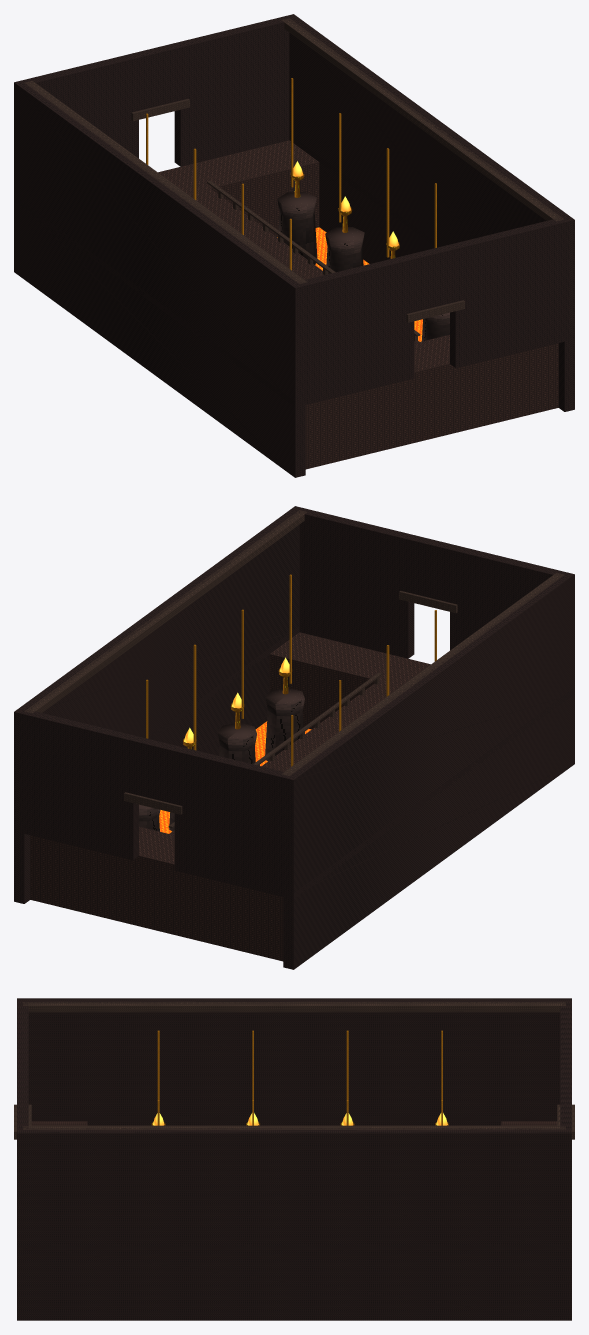
Rendered from f_schlucht.glb.
3 views of the same model, one above another, from view 1: azimuth 30°, elevation 25°; view 2: azimuth 150°, elevation 25°; view 3: azimuth 270°, elevation 25° (orthographic).
Parts seen in each view (by area): view 1: wallS-1, wallS1, chasmWall-1, ledgeA, wallF1, wallB1, wallF-1, ledgeB, chasmWall1, wallB-1, cornice1, bridge (+7 smaller); view 2: wallS-1, wallS1, chasmWall-1, ledgeB, wallB1, wallF1, wallB-1, ledgeA, chasmWall1, wallF-1, cornice1, bridge (+7 smaller); view 3: wallS1, wallS-1, chasmWall1, cornice-1, chasmWall-1, cornice1, wallB1, wallF1, wallF-1, wallB-1.
Boxes of the visible parts, x1=… form: wallS-1: x1=14, y1=80, x2=305, y2=406; wallS1: x1=283, y1=14, x2=574, y2=340; chasmWall-1: x1=14, y1=196, x2=305, y2=477; ledgeA: x1=305, y1=334, x2=558, y2=469; wallF1: x1=450, y1=218, x2=564, y2=367; wallB1: x1=174, y1=16, x2=289, y2=166; wallF-1: x1=301, y1=254, x2=414, y2=404; ledgeB: x1=158, y1=140, x2=319, y2=237; chasmWall1: x1=289, y1=135, x2=574, y2=411; wallB-1: x1=24, y1=53, x2=138, y2=158; cornice1: x1=281, y1=18, x2=563, y2=221; bridge: x1=188, y1=188, x2=419, y2=343; wallS-1: x1=283, y1=572, x2=574, y2=898; wallS1: x1=14, y1=506, x2=305, y2=831; chasmWall-1: x1=283, y1=688, x2=574, y2=969; ledgeB: x1=30, y1=826, x2=283, y2=961; wallB1: x1=24, y1=710, x2=138, y2=859; wallF1: x1=299, y1=508, x2=414, y2=658; wallB-1: x1=174, y1=746, x2=288, y2=896; ledgeA: x1=269, y1=632, x2=430, y2=729; chasmWall1: x1=14, y1=627, x2=299, y2=903; wallF-1: x1=450, y1=545, x2=564, y2=650; cornice1: x1=24, y1=510, x2=306, y2=713; bridge: x1=169, y1=681, x2=400, y2=835; wallS1: x1=17, y1=1128, x2=571, y2=1250; wallS-1: x1=17, y1=998, x2=571, y2=1121; chasmWall1: x1=17, y1=1245, x2=571, y2=1320; cornice-1: x1=23, y1=1002, x2=565, y2=1012; chasmWall-1: x1=31, y1=1116, x2=556, y2=1125; cornice1: x1=23, y1=1125, x2=565, y2=1129; wallB1: x1=560, y1=1075, x2=571, y2=1128; wallF1: x1=17, y1=1075, x2=28, y2=1128; wallF-1: x1=17, y1=1003, x2=28, y2=1055; wallB-1: x1=560, y1=1003, x2=571, y2=1055.
Bounding box in the file's own units: 54 × 35 × 95.
7 materials, 6 textured.
